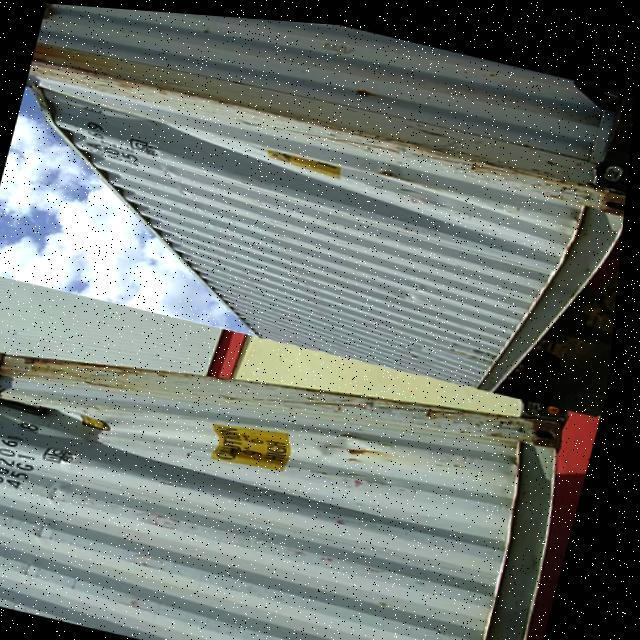rust: (47, 47, 607, 200), (247, 343, 571, 463)
